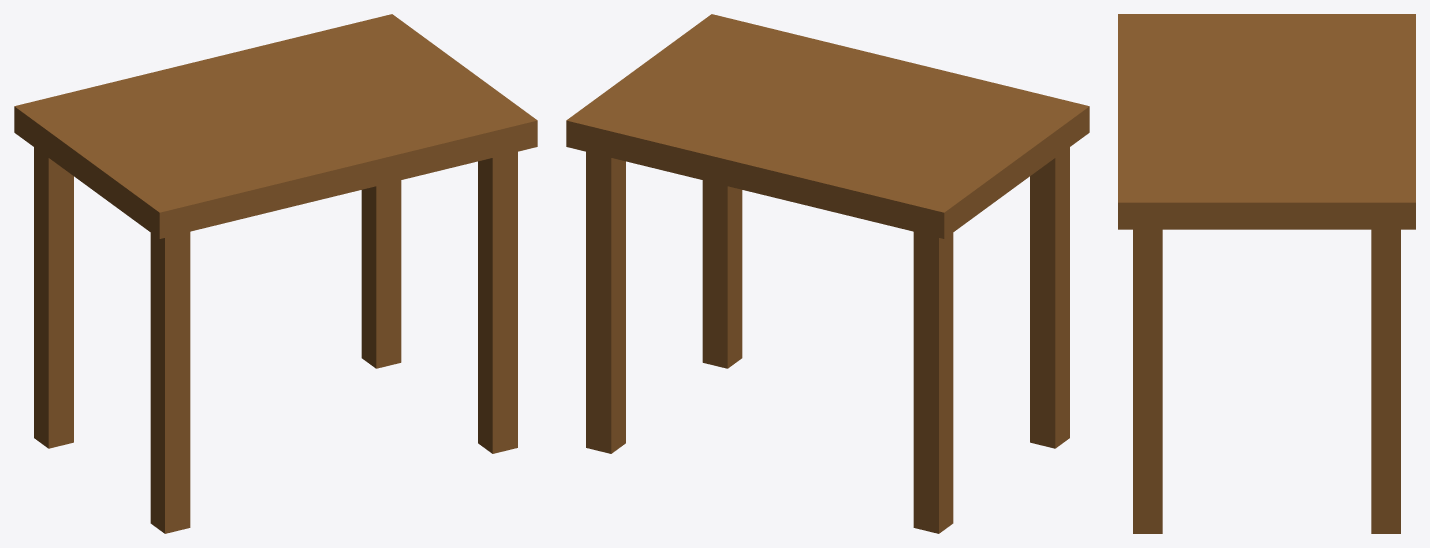
File: table.obj
The picture shows the model from 3 angles, left to right: view 1: azimuth 30°, elevation 25°; view 2: azimuth 150°, elevation 25°; view 3: azimuth 270°, elevation 25°; orthographic projection. The views are drawn at different scales.
Parts seen in each view (by area): view 1: Table; view 2: Table; view 3: Table.
Part boxes in pixels (x1=…): Table: x1=14, y1=14, x2=537, y2=533; Table: x1=566, y1=14, x2=1089, y2=533; Table: x1=1118, y1=14, x2=1415, y2=533.
Size of the model in its own units: 8.4 by 7 by 5.6.
